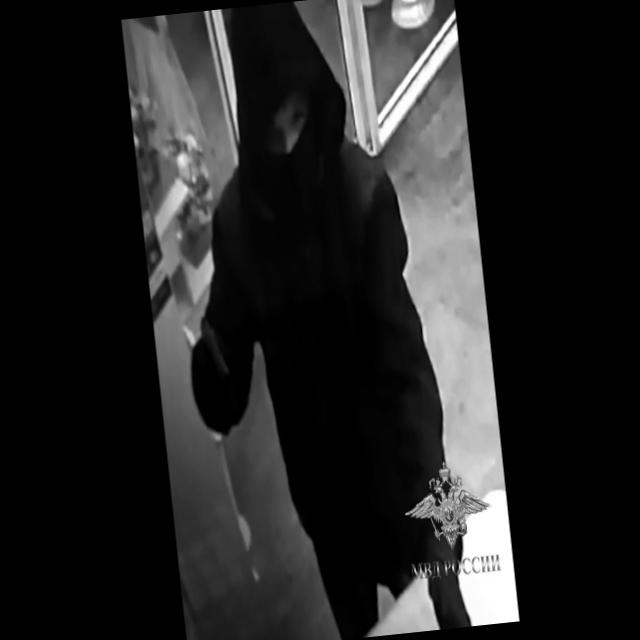gun: (190, 316, 240, 422)
person with a gun: (152, 0, 471, 640)
